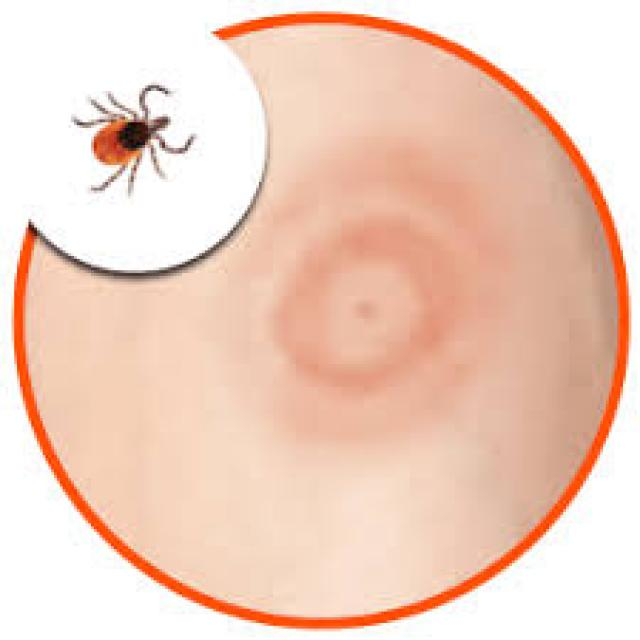kene: (266, 225, 466, 381)
